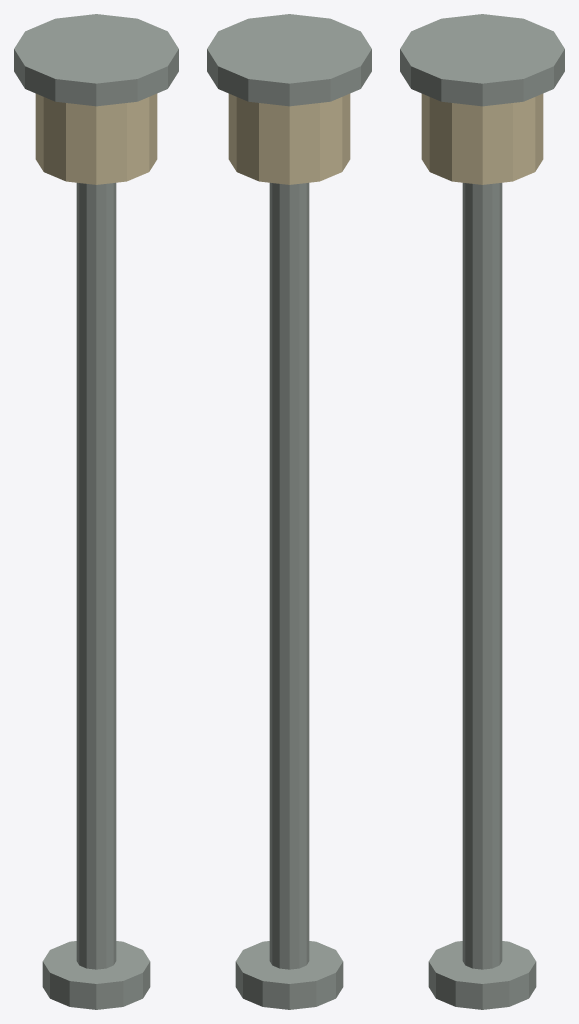
Rendered from zoo-and-safari-park-builder-lamp-post-8221ea43__21494.glb.
The picture shows the model from 3 angles, left to right: view 1: azimuth 30°, elevation 25°; view 2: azimuth 150°, elevation 25°; view 3: azimuth 270°, elevation 25°; orthographic projection.
Visible parts, largest first — view 1: lamp-post; view 2: lamp-post; view 3: lamp-post.
Boxes of the visible parts, x1,y1,x2,y2 form: lamp-post: (14, 14, 178, 1009); lamp-post: (207, 14, 371, 1009); lamp-post: (400, 14, 564, 1009).
Bounding box in the file's own units: 0.46 × 2.89 × 0.46.
